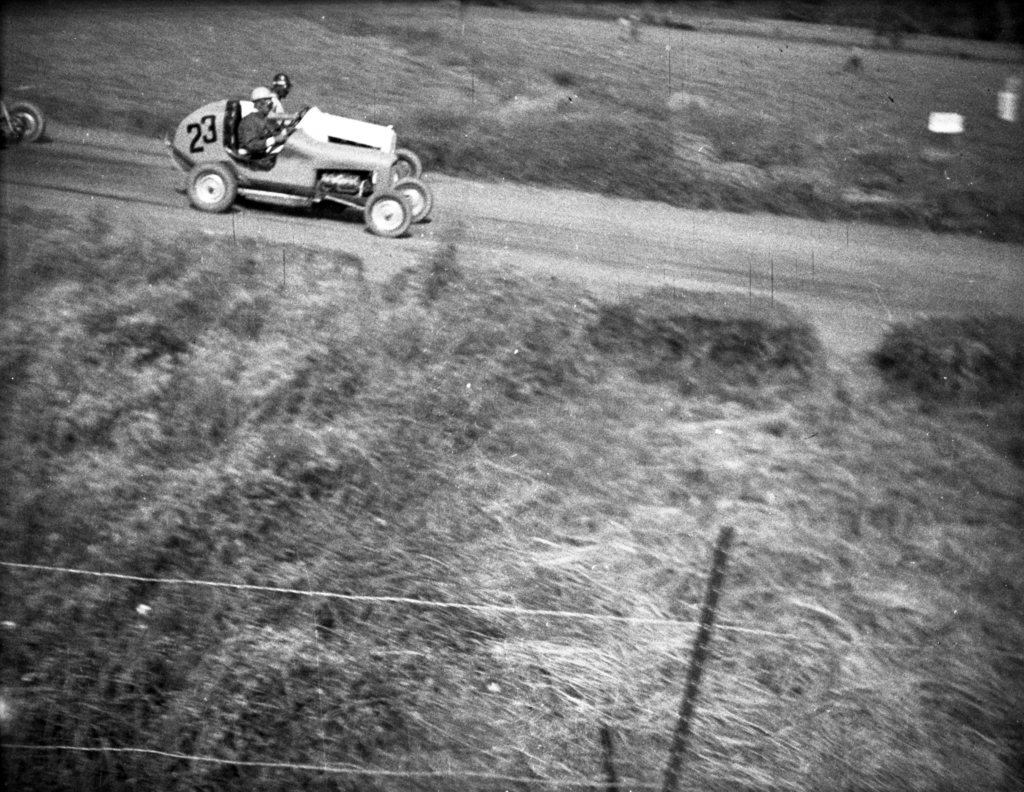Car: (149, 93, 410, 224)
